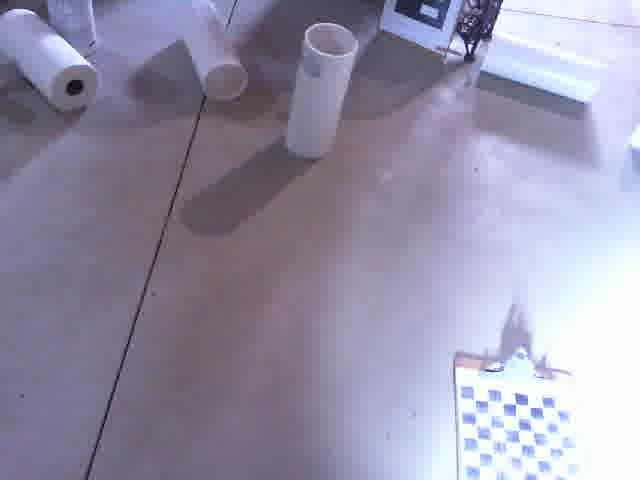coral: (280, 16, 360, 163), (483, 29, 612, 103), (174, 0, 250, 106)
